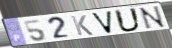2: (46, 16, 75, 42)
5: (22, 18, 48, 42)
K: (69, 14, 95, 37)
N: (138, 5, 169, 31)
U: (113, 7, 143, 33)
V: (89, 10, 113, 35)
